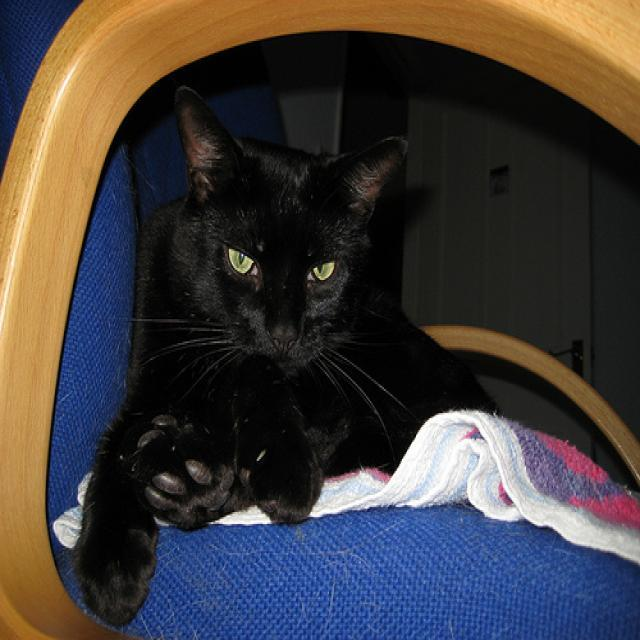Bombay: (152, 74, 421, 391)
